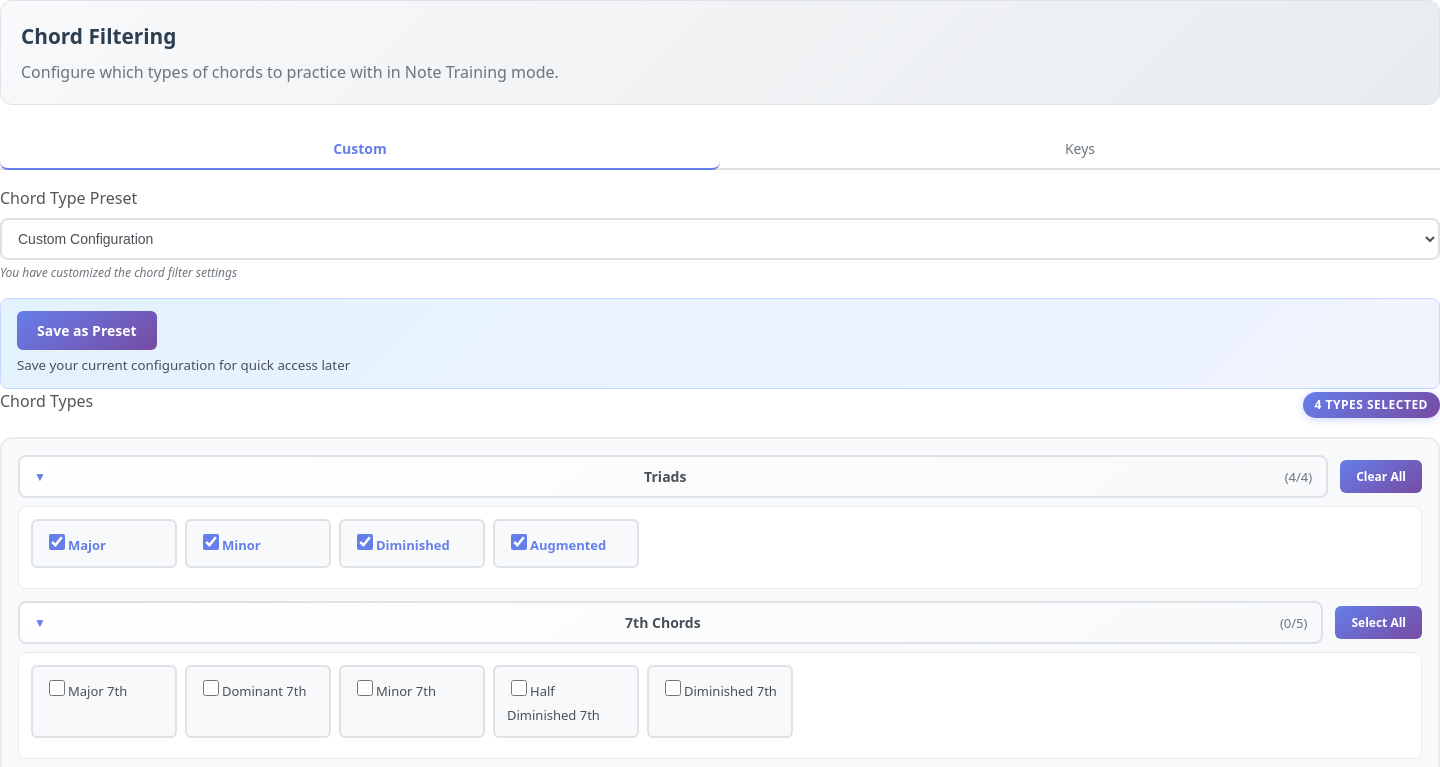
Scenario: Chord Filter System Integration Tests › should hide key filter when switching back to Custom tab
Note: Switch to Keys subtab
Click the button "Keys": click(1080, 150) [720,129,1439,170]
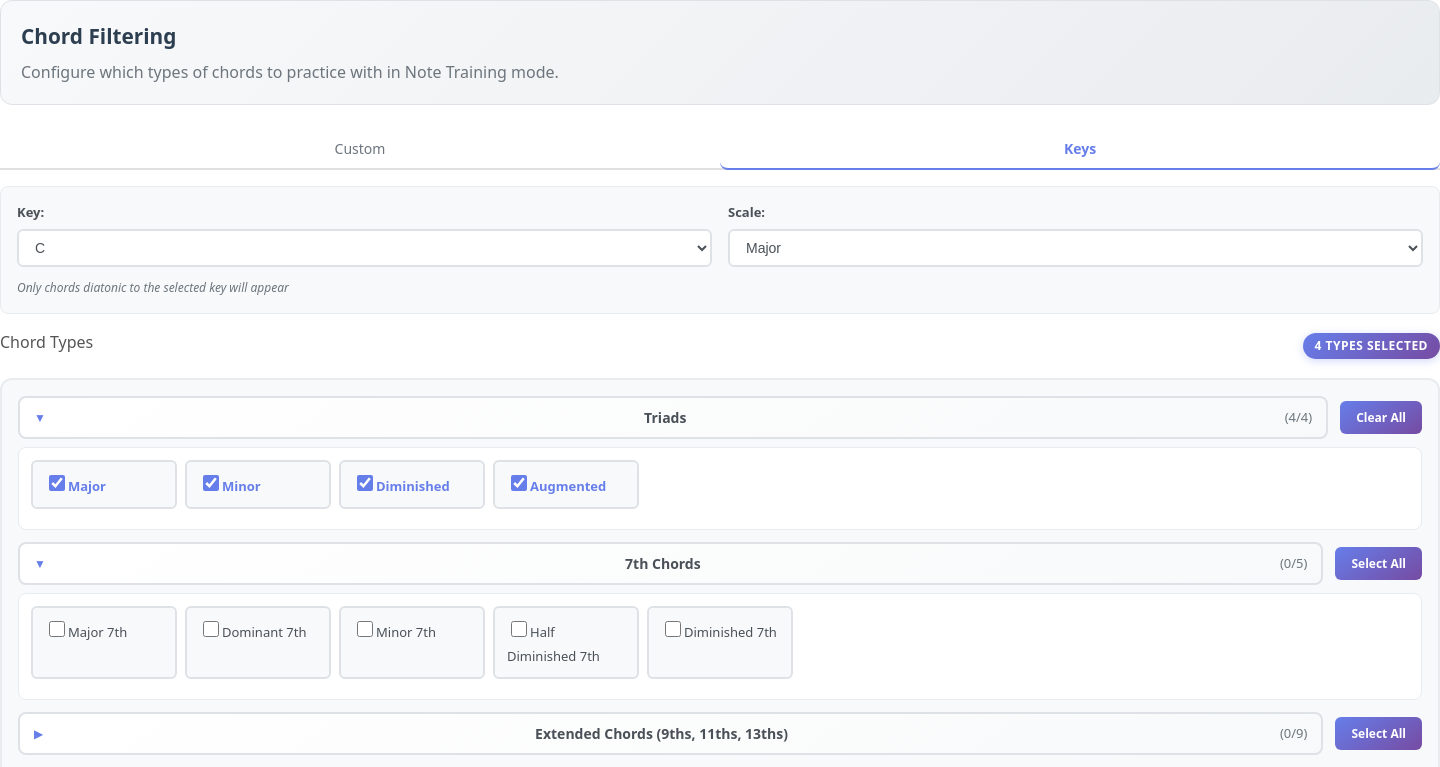
Expected: the dropdown labelled "Key:" is shown, [17,229,712,267]
Note: Switch back to Custom subtab
Click the button "Custom": click(360, 150) [0,129,720,170]
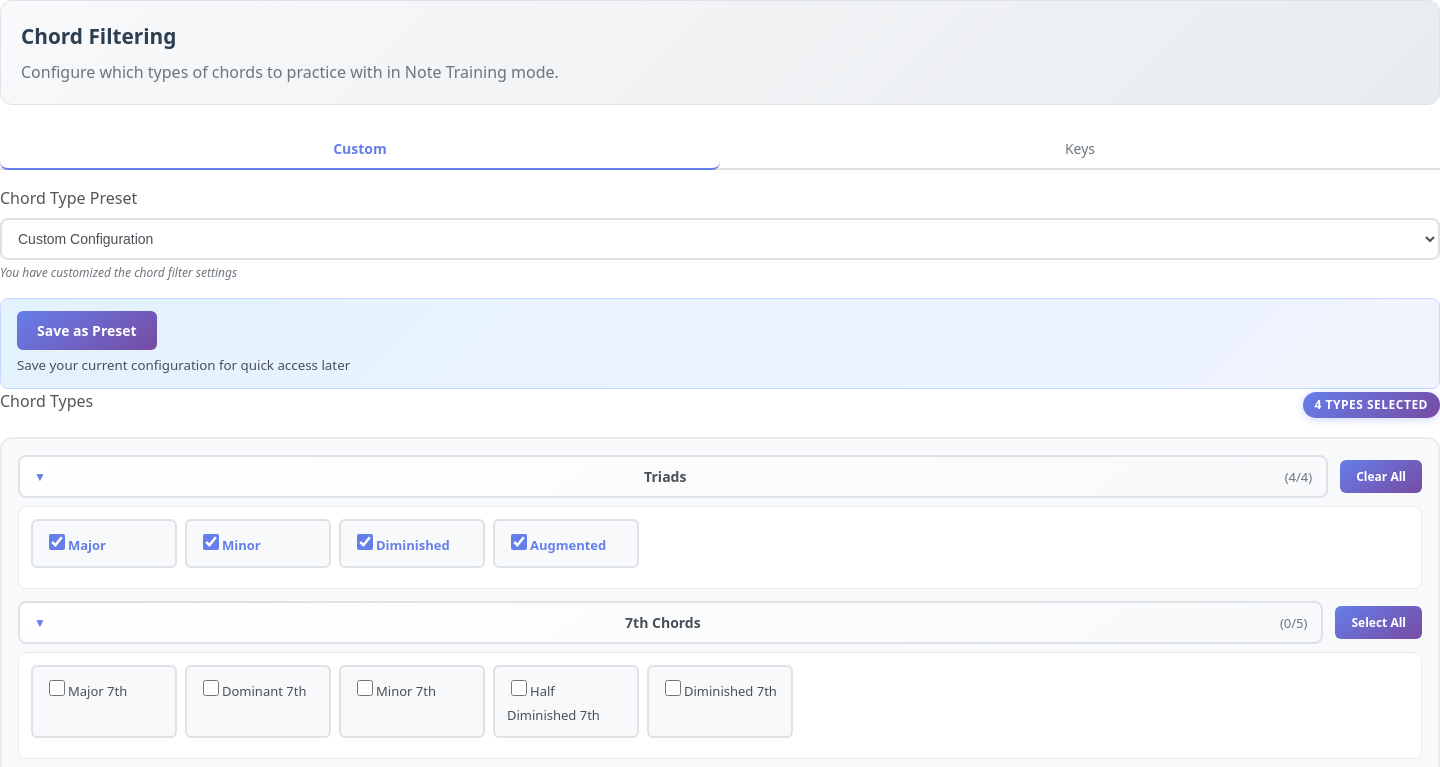
Expected: the label labelled "Key:" is gone
